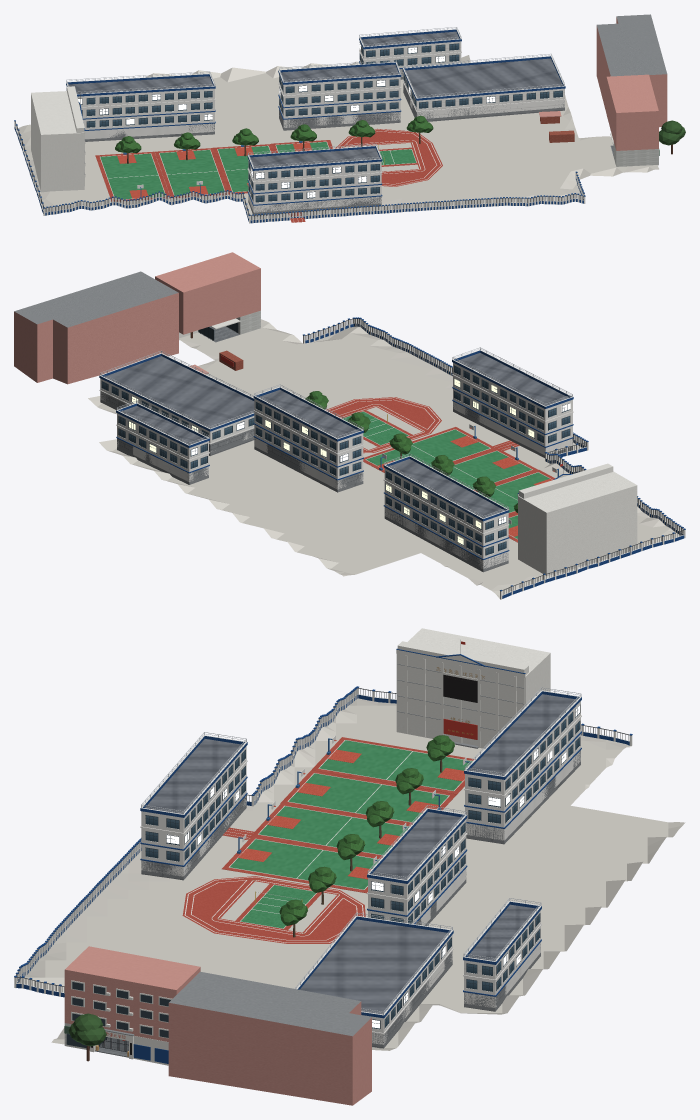
The model's file is kuiguang_school.glb.
3 renders of one model, top to bottom at view 1: azimuth 30°, elevation 25°; view 2: azimuth 150°, elevation 25°; view 3: azimuth 270°, elevation 25°, orthographic. The views are drawn at different scales.
Visible parts, largest first — view 1: lod2_base_25a0a1, lod2_base_888e3c, lod0, lod1_base_e6f4a0, lod1_joinery_heritage, lod0_base_cce34c, lod0_base_88130f, lod1_stone_heritage, lod0_joinery_heritage, lod1_brick_heritage; view 2: lod2_base_888e3c, lod2_base_25a0a1, lod1_joinery_heritage, lod0, lod1_base_e6f4a0, lod0_base_cce34c, lod0_base_88130f; view 3: lod2_base_25a0a1, lod2_base_888e3c, lod1_joinery_heritage, lod0, lod1_base_e6f4a0, lod0_base_cce34c, lod0_joinery_heritage, lod0_base_88130f.
Part boxes in pixels (box(x1,y1,x2,y2)): lod2_base_25a0a1: box(66, 31, 564, 222); lod2_base_888e3c: box(18, 55, 658, 219); lod0: box(14, 27, 585, 223); lod1_base_e6f4a0: box(14, 29, 584, 223); lod1_joinery_heritage: box(31, 14, 672, 192); lod0_base_cce34c: box(81, 50, 565, 205); lod0_base_88130f: box(78, 43, 495, 197); lod1_stone_heritage: box(613, 142, 658, 166); lod0_joinery_heritage: box(659, 120, 685, 145); lod1_brick_heritage: box(540, 116, 574, 142); lod2_base_888e3c: box(88, 319, 680, 598); lod2_base_25a0a1: box(100, 353, 572, 572); lod1_joinery_heritage: box(14, 252, 637, 575); lod0: box(100, 317, 685, 599); lod1_base_e6f4a0: box(99, 318, 684, 598); lod0_base_cce34c: box(99, 374, 573, 559); lod0_base_88130f: box(129, 378, 570, 544); lod2_base_25a0a1: box(141, 694, 580, 1048); lod2_base_888e3c: box(19, 698, 685, 1050); lod1_joinery_heritage: box(64, 628, 550, 1105); lod0: box(14, 686, 632, 1029); lod1_base_e6f4a0: box(16, 688, 629, 1044); lod0_base_cce34c: box(140, 715, 581, 1034); lod0_joinery_heritage: box(68, 667, 484, 1051); lod0_base_88130f: box(166, 705, 579, 1028).
Size of what is drawn, in the model's own units: 190 by 23.73 by 129.
7 materials, 5 textured.
